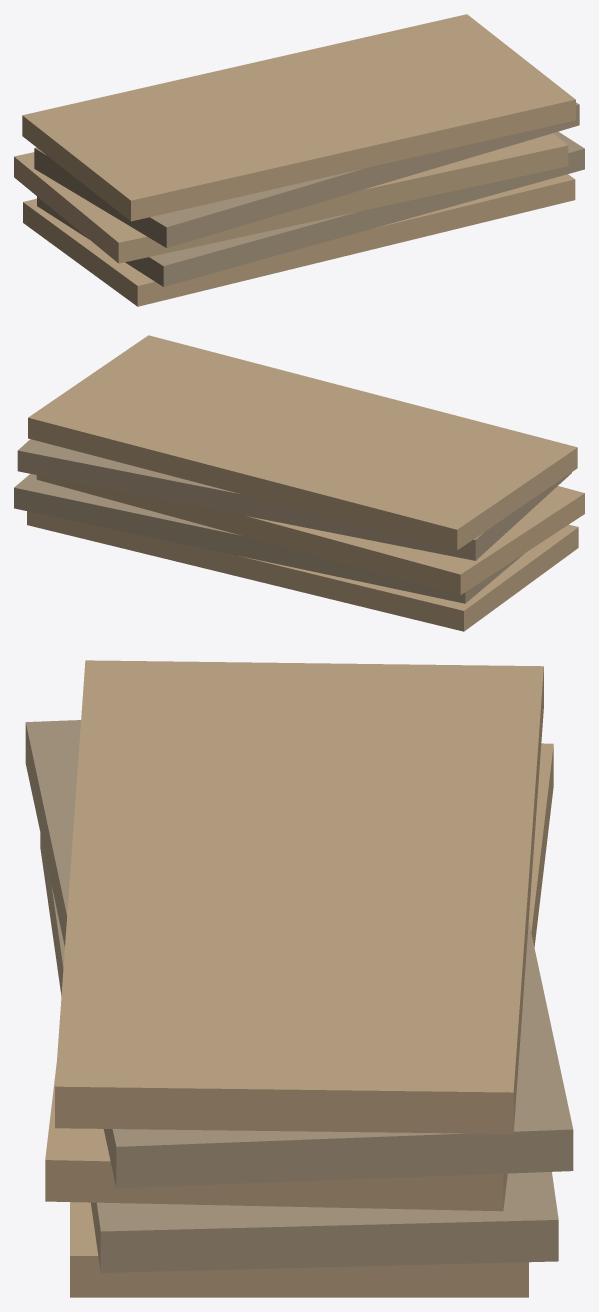
The model's file is prop-comb-blank-stack.fbx.
3 views of the same model, one above another, from view 1: azimuth 30°, elevation 25°; view 2: azimuth 150°, elevation 25°; view 3: azimuth 270°, elevation 25° (orthographic). The views are drawn at different scales.
Visible parts, largest first — view 1: prop-comb-blank-stack; view 2: prop-comb-blank-stack; view 3: prop-comb-blank-stack.
Part boxes in pixels (x1,y1,x2,y2): prop-comb-blank-stack: [14, 14, 584, 306]; prop-comb-blank-stack: [14, 335, 584, 631]; prop-comb-blank-stack: [25, 660, 573, 1297].
Size of the model in its own units: 11.76 by 2.5 by 5.97.
